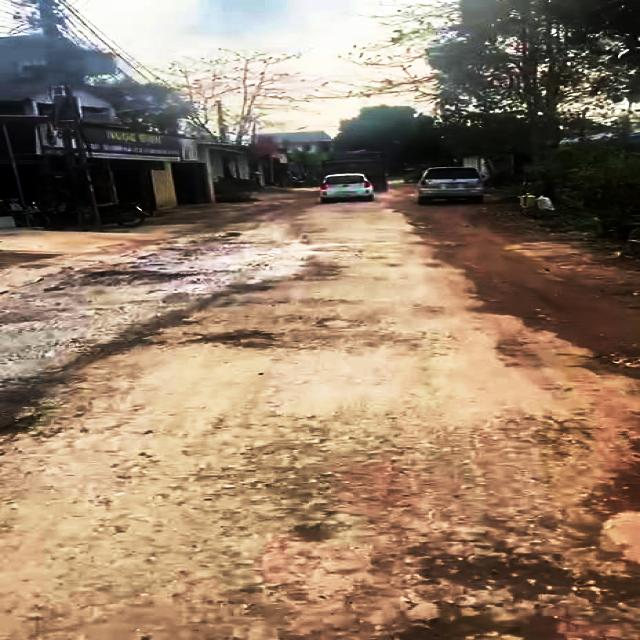pothole: (375, 533, 640, 640), (207, 329, 290, 350), (0, 407, 44, 443)
